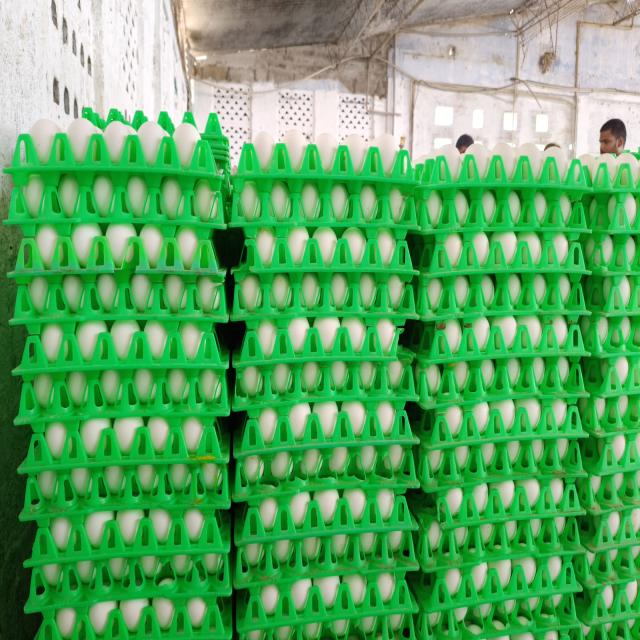egg_tray: (8, 118, 224, 271), (16, 370, 229, 518), (17, 369, 228, 514), (234, 489, 417, 635), (235, 489, 414, 630), (6, 118, 223, 222), (414, 145, 584, 275), (25, 506, 231, 612), (19, 416, 229, 517), (580, 235, 640, 586), (10, 238, 228, 332), (231, 131, 416, 239), (415, 242, 586, 358), (414, 399, 586, 513), (233, 400, 418, 501), (232, 264, 416, 365), (234, 400, 418, 500), (411, 517, 581, 625), (234, 264, 415, 365), (234, 489, 418, 588), (234, 489, 417, 584), (413, 391, 585, 491), (234, 530, 418, 623), (234, 130, 417, 223), (410, 499, 583, 592), (26, 505, 230, 581), (410, 556, 581, 639), (7, 172, 224, 237), (14, 365, 230, 430), (14, 316, 229, 381), (16, 218, 223, 282), (9, 223, 225, 283), (236, 566, 416, 638), (10, 274, 228, 333), (20, 459, 230, 520), (410, 555, 580, 629), (19, 414, 230, 473), (576, 395, 640, 588), (236, 571, 417, 639), (408, 391, 587, 459), (236, 572, 417, 639), (230, 175, 417, 239), (36, 578, 232, 639), (36, 579, 232, 639), (583, 154, 638, 355), (234, 399, 418, 458), (233, 445, 419, 501), (415, 143, 590, 201), (232, 358, 417, 411), (414, 435, 586, 492), (231, 272, 417, 324), (233, 314, 404, 369), (414, 356, 588, 410), (414, 185, 586, 239), (408, 314, 588, 365), (580, 356, 640, 508), (410, 230, 586, 281), (410, 314, 586, 365), (235, 227, 416, 276), (420, 476, 584, 529), (414, 273, 586, 322), (422, 477, 584, 527), (414, 594, 582, 639), (581, 311, 640, 437), (582, 275, 638, 397), (236, 607, 416, 639), (578, 431, 640, 517), (574, 509, 640, 588), (581, 270, 640, 357), (237, 614, 416, 639), (582, 428, 640, 505), (586, 163, 640, 234), (576, 580, 640, 637), (578, 394, 640, 442), (200, 113, 231, 207), (200, 114, 231, 207), (581, 310, 640, 358), (582, 353, 640, 398), (578, 153, 640, 194), (584, 231, 640, 276), (584, 274, 640, 319), (201, 113, 231, 196), (207, 140, 232, 221), (201, 134, 231, 201), (81, 107, 148, 134), (82, 107, 148, 130), (406, 233, 429, 291), (289, 492, 332, 523), (201, 132, 231, 176), (581, 617, 640, 639), (214, 228, 244, 269), (213, 229, 243, 269), (583, 618, 640, 639), (81, 107, 130, 130), (200, 113, 228, 148), (580, 163, 593, 232), (32, 120, 62, 140), (465, 404, 489, 427), (464, 153, 480, 184), (600, 372, 624, 392), (157, 111, 176, 135), (433, 158, 450, 184), (158, 111, 176, 135), (569, 171, 585, 198), (516, 156, 533, 181), (158, 111, 175, 135), (158, 111, 175, 134), (157, 111, 174, 134), (429, 191, 442, 221), (158, 111, 174, 134), (159, 112, 174, 135), (132, 110, 148, 130), (586, 361, 599, 382), (505, 361, 520, 379), (76, 566, 94, 581), (132, 111, 148, 127), (142, 557, 157, 574), (133, 111, 147, 129), (182, 111, 196, 126), (522, 361, 537, 375), (302, 206, 317, 220), (544, 158, 556, 175), (477, 148, 488, 166), (524, 481, 539, 494), (41, 375, 51, 394), (183, 112, 196, 126), (331, 203, 340, 222), (206, 558, 219, 571), (260, 606, 274, 618), (183, 112, 195, 126), (454, 236, 462, 255), (616, 363, 626, 378), (558, 236, 568, 251), (186, 123, 198, 135), (419, 203, 428, 219), (183, 112, 194, 125), (433, 453, 442, 468), (477, 421, 486, 436), (464, 424, 474, 437), (600, 359, 614, 368), (498, 559, 510, 569), (451, 155, 461, 167), (619, 396, 627, 410), (599, 323, 606, 339), (182, 130, 192, 141), (175, 558, 187, 567), (528, 147, 540, 156), (184, 112, 193, 123), (603, 532, 615, 540), (493, 245, 502, 255), (358, 209, 365, 221), (509, 236, 515, 250), (110, 122, 126, 127), (392, 450, 400, 460), (468, 247, 475, 258), (545, 420, 552, 430), (553, 175, 559, 186), (432, 365, 438, 375), (332, 604, 339, 612), (108, 118, 119, 123), (426, 367, 432, 376), (40, 273, 58, 276), (105, 117, 110, 127), (551, 559, 558, 566), (228, 288, 232, 300), (549, 243, 554, 252), (536, 158, 541, 167), (563, 157, 566, 172), (623, 331, 628, 340), (552, 571, 557, 580), (204, 370, 215, 374), (598, 635, 609, 639), (228, 289, 232, 300), (185, 114, 191, 121), (436, 425, 441, 433), (523, 246, 528, 254), (454, 365, 458, 374), (449, 434, 458, 438), (111, 118, 123, 121), (461, 370, 468, 375), (116, 569, 123, 574), (64, 629, 69, 636), (185, 112, 190, 119), (502, 485, 509, 490), (623, 283, 628, 289), (410, 560, 414, 567), (536, 237, 539, 246), (243, 610, 248, 615), (596, 605, 601, 610), (557, 423, 562, 428), (308, 634, 316, 637), (622, 531, 630, 534), (225, 404, 228, 412), (248, 473, 254, 477), (512, 525, 515, 533), (583, 236, 587, 242), (49, 123, 56, 126), (310, 516, 313, 523), (456, 431, 460, 436), (66, 616, 68, 626), (386, 207, 390, 212), (393, 195, 398, 199), (38, 147, 42, 152), (34, 123, 38, 128), (378, 494, 382, 499), (443, 429, 449, 432), (39, 121, 48, 123), (553, 563, 556, 569), (628, 504, 636, 506), (443, 437, 447, 441), (531, 423, 535, 427), (367, 629, 372, 632), (629, 238, 632, 243), (398, 216, 401, 221), (159, 238, 162, 243), (481, 167, 484, 172), (237, 619, 239, 626), (111, 595, 118, 597), (210, 114, 216, 116), (133, 491, 137, 494), (448, 370, 451, 374), (180, 571, 184, 574), (519, 425, 523, 428), (263, 507, 265, 513), (368, 457, 372, 460), (201, 135, 204, 139), (210, 114, 214, 117), (243, 522, 246, 526), (334, 515, 338, 518), (574, 166, 579, 168), (516, 579, 521, 581), (110, 110, 113, 113), (414, 606, 417, 609), (432, 465, 435, 468), (53, 580, 56, 583), (616, 445, 619, 448), (635, 397, 636, 406), (383, 617, 386, 620), (418, 418, 421, 421), (403, 252, 406, 255), (586, 516, 589, 519), (630, 586, 633, 589), (396, 496, 399, 499), (608, 367, 610, 371), (630, 318, 632, 322), (284, 599, 288, 601), (105, 131, 107, 135), (176, 130, 178, 134), (268, 575, 272, 577), (428, 221, 430, 225), (278, 607, 280, 610), (19, 219, 22, 221), (226, 209, 227, 215), (112, 232, 114, 235), (616, 529, 618, 532), (633, 527, 636, 529), (118, 577, 121, 579), (197, 223, 200, 225), (234, 198, 236, 201), (172, 240, 174, 243), (346, 620, 349, 622), (492, 425, 498, 426), (354, 620, 356, 623), (598, 605, 601, 607), (634, 553, 636, 556), (207, 121, 209, 124), (411, 525, 414, 527), (43, 158, 45, 161), (326, 545, 328, 548), (552, 558, 555, 560), (527, 153, 530, 155), (520, 483, 523, 485), (310, 635, 315, 636), (226, 210, 227, 215), (616, 366, 618, 368), (613, 285, 615, 287), (122, 497, 124, 499), (427, 257, 429, 259), (66, 611, 68, 613), (80, 469, 84, 470), (28, 239, 30, 241), (590, 638, 594, 639), (413, 340, 415, 342), (564, 253, 566, 255), (134, 115, 135, 119), (267, 522, 269, 524), (342, 514, 344, 516), (211, 114, 215, 115), (599, 415, 601, 417), (202, 137, 204, 139), (478, 490, 480, 492), (605, 278, 606, 281), (421, 373, 424, 374), (502, 364, 505, 365), (588, 500, 591, 501), (74, 580, 77, 581), (505, 427, 508, 428), (85, 271, 88, 272), (596, 231, 597, 234), (482, 489, 485, 490), (247, 628, 248, 630), (412, 611, 414, 612), (269, 620, 270, 622), (411, 596, 412, 598), (98, 316, 100, 317), (16, 220, 18, 221), (617, 449, 619, 450), (316, 403, 318, 404), (136, 376, 138, 377), (479, 409, 481, 410), (566, 258, 568, 259), (435, 246, 436, 248), (178, 127, 180, 128), (338, 618, 340, 619), (218, 126, 219, 128), (420, 507, 422, 508), (225, 218, 227, 219), (440, 171, 442, 172), (520, 154, 522, 155), (379, 629, 380, 630), (246, 628, 247, 629), (625, 278, 626, 279), (225, 218, 226, 219), (487, 453, 488, 454), (502, 361, 503, 362), (614, 449, 615, 450), (342, 631, 343, 632), (256, 629, 257, 630), (123, 607, 124, 608), (205, 232, 206, 233), (192, 140, 193, 141), (256, 460, 257, 461), (349, 635, 350, 636), (418, 249, 419, 250), (416, 196, 417, 197), (558, 158, 559, 159), (507, 371, 508, 372), (352, 569, 352, 570), (305, 610, 306, 610), (215, 394, 219, 394), (61, 220, 61, 221), (16, 212, 19, 212), (492, 457, 492, 458), (603, 402, 603, 404), (576, 364, 576, 366), (432, 418, 432, 419), (474, 407, 474, 408), (556, 401, 562, 401), (130, 596, 130, 597), (542, 636, 548, 636), (88, 567, 91, 567), (192, 122, 192, 123), (72, 612, 72, 612), (292, 212, 292, 212), (261, 202, 261, 203), (25, 241, 27, 241), (396, 623, 396, 623), (490, 431, 490, 432), (570, 427, 570, 427), (416, 336, 416, 337), (490, 270, 490, 270), (212, 274, 216, 274), (403, 612, 404, 612), (636, 546, 636, 548), (594, 258, 594, 259), (601, 202, 601, 204), (498, 617, 499, 617), (227, 276, 228, 276), (228, 271, 228, 272), (384, 514, 386, 514), (536, 170, 537, 170), (561, 163, 561, 163), (481, 487, 481, 488)
